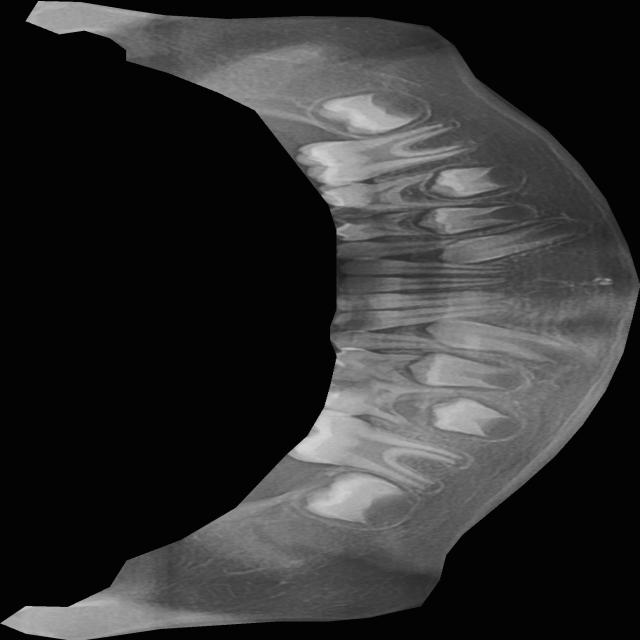mandibula: (0, 0, 640, 640)
